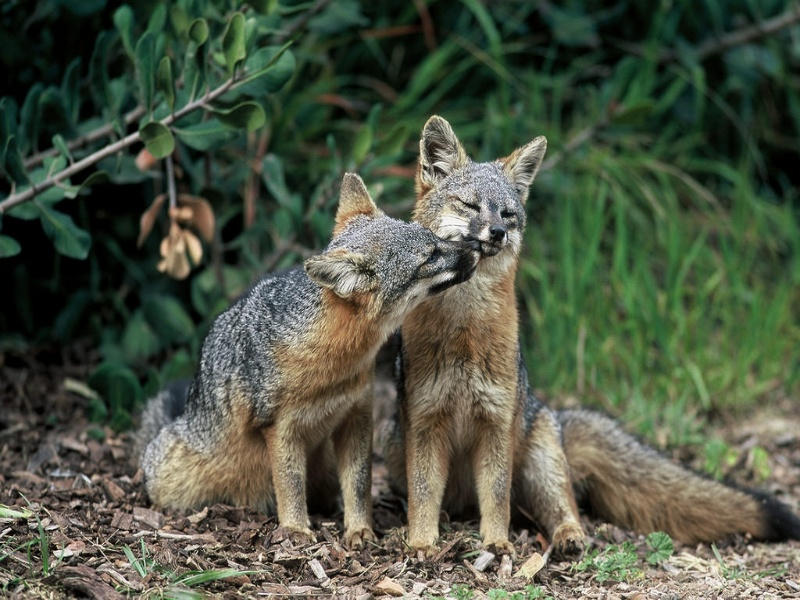fox: (133, 167, 787, 555), (402, 106, 773, 563)
